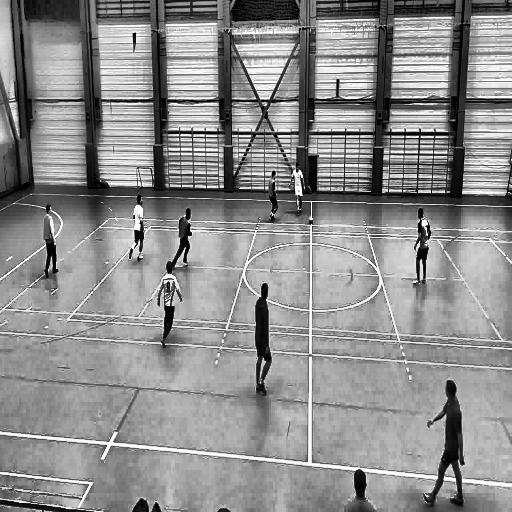ball: (308, 216, 315, 226)
player: (423, 378, 466, 509), (157, 262, 183, 352), (254, 283, 273, 400), (170, 206, 194, 270), (414, 206, 431, 288), (42, 204, 60, 278), (128, 195, 146, 263), (288, 161, 306, 218), (267, 170, 280, 224)
